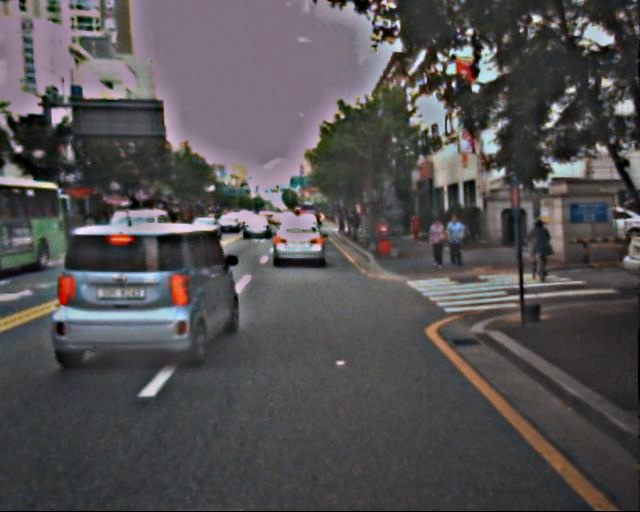person: (527, 217, 553, 280), (427, 218, 450, 273), (445, 215, 467, 269)
